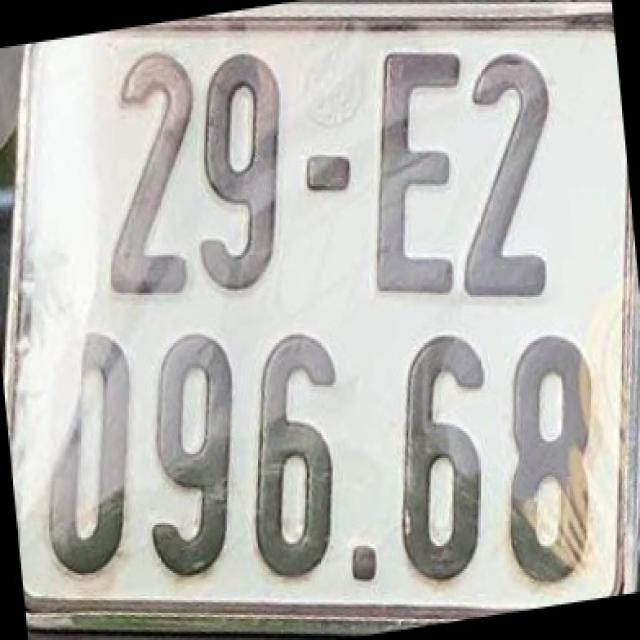0: (39, 324, 134, 580)
2: (462, 40, 557, 303), (103, 42, 194, 301)
6: (392, 324, 490, 588), (250, 324, 341, 584)
8: (503, 324, 601, 584)
9: (194, 44, 289, 297), (144, 326, 236, 584)
E: (367, 34, 462, 301)
